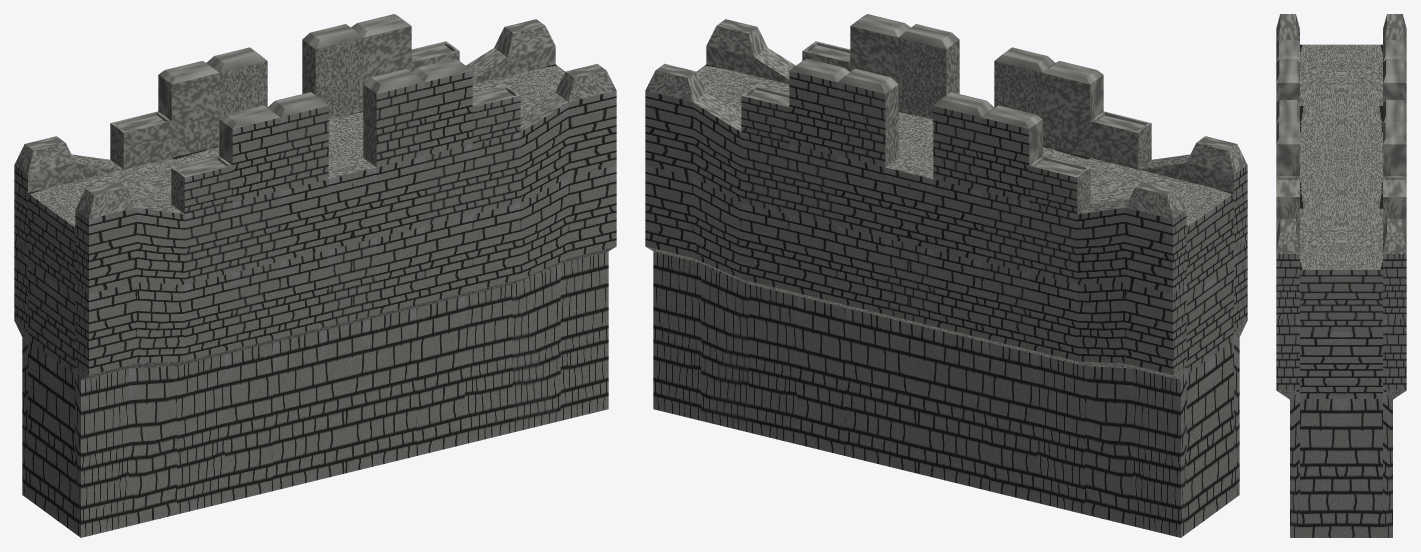
File: City Wall.fbx
3 renders of one model, left to right at view 1: azimuth 30°, elevation 25°; view 2: azimuth 150°, elevation 25°; view 3: azimuth 270°, elevation 25°, orthographic. The views are drawn at different scales.
Visible parts, largest first — view 1: Cube.001; view 2: Cube.001; view 3: Cube.001.
Part boxes in pixels (x1,y1,x2,y2): Cube.001: (14,14,616,537); Cube.001: (645,14,1247,537); Cube.001: (1276,14,1406,537).
Bounding box in the file's own units: 35.69 × 24.96 × 8.72.
1 material, 1 textured.
